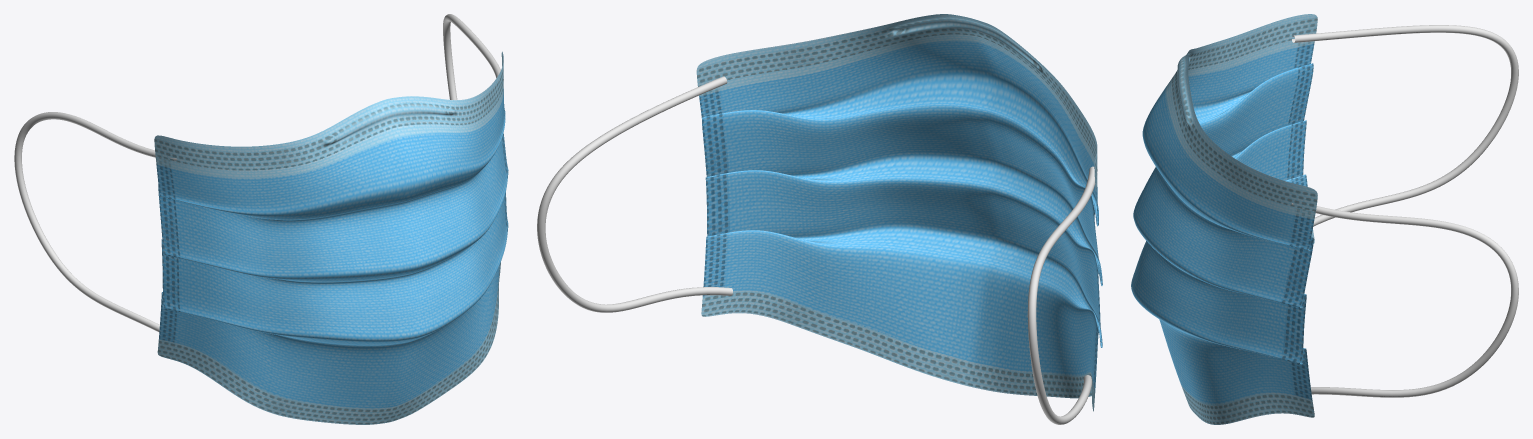
File: n_mask.fbx
3 renders of one model, left to right at view 1: azimuth 30°, elevation 25°; view 2: azimuth 150°, elevation 25°; view 3: azimuth 270°, elevation 25°, orthographic. The views are drawn at different scales.
Parts seen in each view (by area): view 1: pPlane2, NurbsPath; view 2: pPlane2, NurbsPath; view 3: pPlane2, NurbsPath.
Boxes of the visible parts, <box> form: pPlane2: <box>154,51,508,424</box>; NurbsPath: <box>14,14,503,331</box>; pPlane2: <box>696,14,1102,411</box>; NurbsPath: <box>537,76,1097,424</box>; pPlane2: <box>1131,14,1317,424</box>; NurbsPath: <box>1291,25,1518,397</box>.
Size of the model in its own units: 107 by 75.65 by 79.13.
